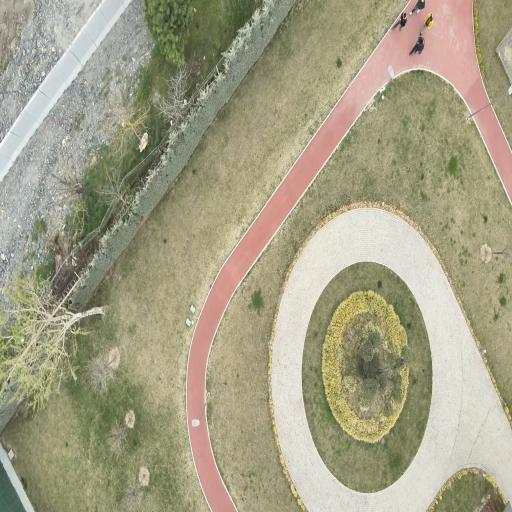person: (420, 13, 433, 35), (392, 12, 406, 30), (410, 37, 424, 54), (410, 0, 425, 15)
